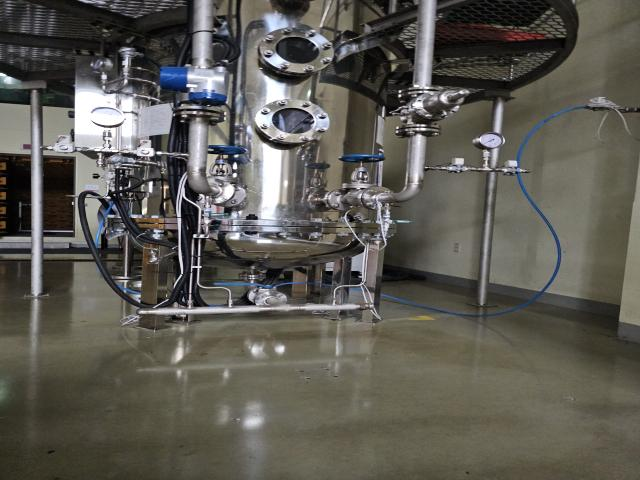Flange: (257, 28, 335, 74), (254, 98, 330, 144)
Flush Ring: (186, 178, 247, 205), (171, 105, 226, 125), (356, 187, 395, 211), (323, 188, 362, 211), (396, 86, 452, 101), (252, 290, 290, 311), (394, 123, 442, 138)
GasRegulator: (92, 46, 167, 102)
Nuts: (128, 145, 164, 159), (49, 143, 80, 154), (440, 164, 474, 174), (499, 165, 529, 175)
Piston Valve: (339, 154, 386, 188), (207, 146, 248, 183)
Pressure Gage: (88, 106, 126, 150), (474, 131, 506, 169)
